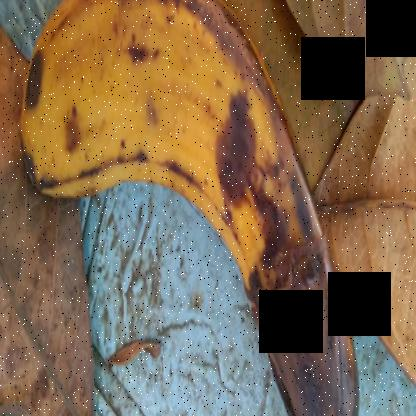rotten: (6, 0, 370, 415)
